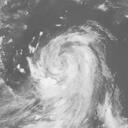cyclone: (27, 31, 108, 101)
